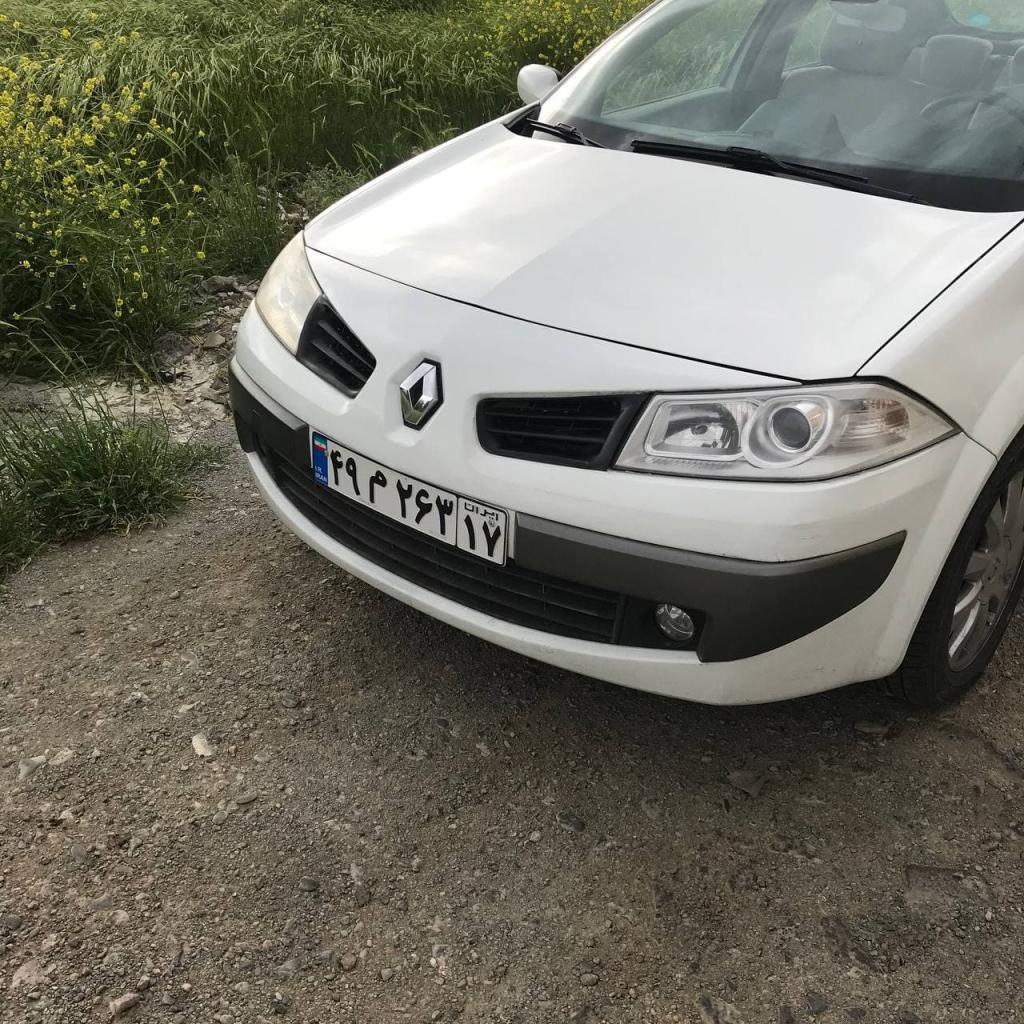Plates: (312, 432, 506, 565)
